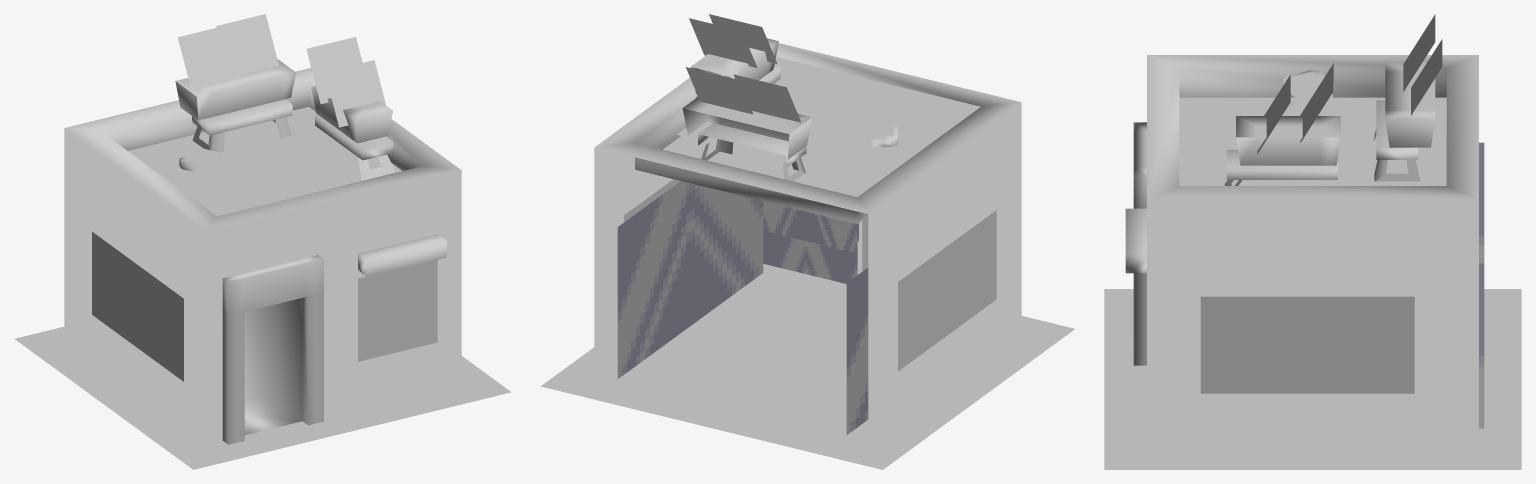
File: tg_house01.dae
The picture shows the model from 3 angles, left to right: view 1: azimuth 30°, elevation 25°; view 2: azimuth 150°, elevation 25°; view 3: azimuth 270°, elevation 25°; orthographic projection. The views are drawn at different scales.
Parts seen in each view (by area): view 1: tg_house01; view 2: tg_house01; view 3: tg_house01.
Boxes of the visible parts, x1,y1,x2,y2 form: tg_house01: (14,14,511,469); tg_house01: (541,14,1074,469); tg_house01: (1104,14,1521,469).
Bounding box in the file's own units: 80 × 71.53 × 78.
